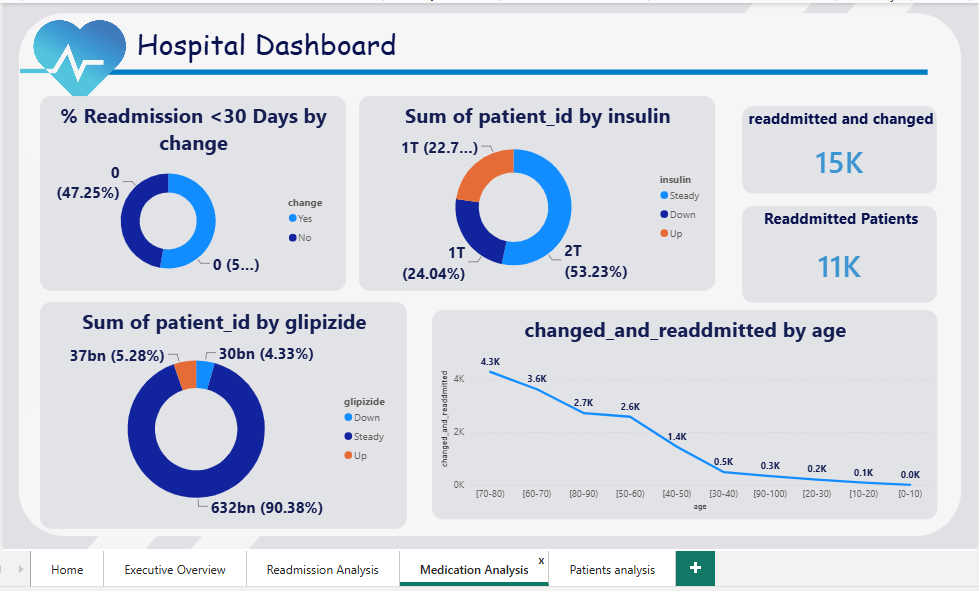

What the dashboard file says about the page in this screenshot:
{"tool":"powerbi","page":{"name":"Medication Analysis","canvas":[1280,720],"ordinal":3},"visuals":[{"type":"image","box":[12.5,9.7,158.4,136.2],"z":0},{"type":"textbox","box":[170.9,22.2,359.9,79.2],"z":1000},{"type":"donutChart","fields":{"Category":["Data.insulin"],"Y":["Sum(Data.patient_id)"]},"box":[468,122.4,468,256.3],"z":2000},{"type":"donutChart","fields":{"Series":["Data.glipizide"],"Y":["Sum(Data.patient_id)"]},"box":[49,393.1,482.4,298.1],"z":3000},{"type":"cardVisual","title":"readdmitted and changed","fields":{"Data":["Dax Measure.changed_and_readdmitted"]},"box":[970.6,135.4,256.3,115.2],"z":4000},{"type":"donutChart","fields":{"Category":["Data.change"],"Y":["Dax Measure.% Readmission <30 Days"]},"box":[49,122.4,401.8,256.3],"z":5000},{"type":"lineChart","fields":{"Category":["Data.age"],"Y":["Dax Measure.changed_and_readdmitted"]},"box":[563,403.2,663.8,275],"z":6000},{"type":"cardVisual","title":"Readdmitted Patients","fields":{"Data":["Dax Measure.ReadmittedCount"]},"box":[970.6,266.4,256.3,126.7],"z":7000}]}

Visuals, with their boxes on the page's 1280x720 design canvas (x1, y1, x2, y2). These are canvas units, not pixel positions in the 979x591 screenshot, which may show the page scaled, cropped or inside an application window:
image: (12, 10, 171, 146)
textbox: (171, 22, 531, 101)
donutChart - Data.insulin x Sum(Data.patient_id): (468, 122, 936, 379)
donutChart - Data.glipizide x Sum(Data.patient_id): (49, 393, 531, 691)
"readdmitted and changed" cardVisual: (971, 135, 1227, 251)
donutChart - Data.change x Dax Measure.% Readmission <30 Days: (49, 122, 451, 379)
lineChart - Data.age x Dax Measure.changed_and_readdmitted: (563, 403, 1227, 678)
"Readdmitted Patients" cardVisual: (971, 266, 1227, 393)
